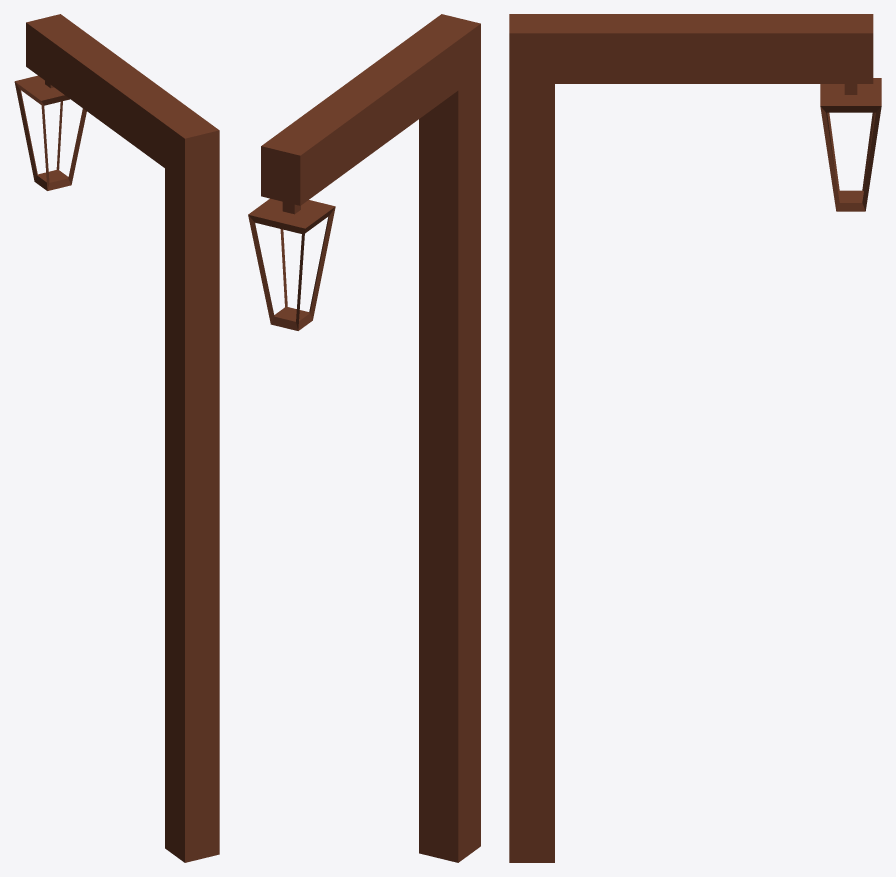
Rendered from Lightpost.fbx.
The picture shows the model from 3 angles, left to right: view 1: azimuth 30°, elevation 25°; view 2: azimuth 150°, elevation 25°; view 3: azimuth 270°, elevation 25°; orthographic projection. The views are drawn at different scales.
Visible parts, largest first — view 1: Light Post; view 2: Light Post; view 3: Light Post.
Part boxes in pixels (box(x1,y1,x2,y2)): Light Post: box(14, 14, 219, 862); Light Post: box(248, 14, 480, 862); Light Post: box(509, 14, 881, 862).
Bounding box in the file's own units: 29.15 × 400 × 163.
